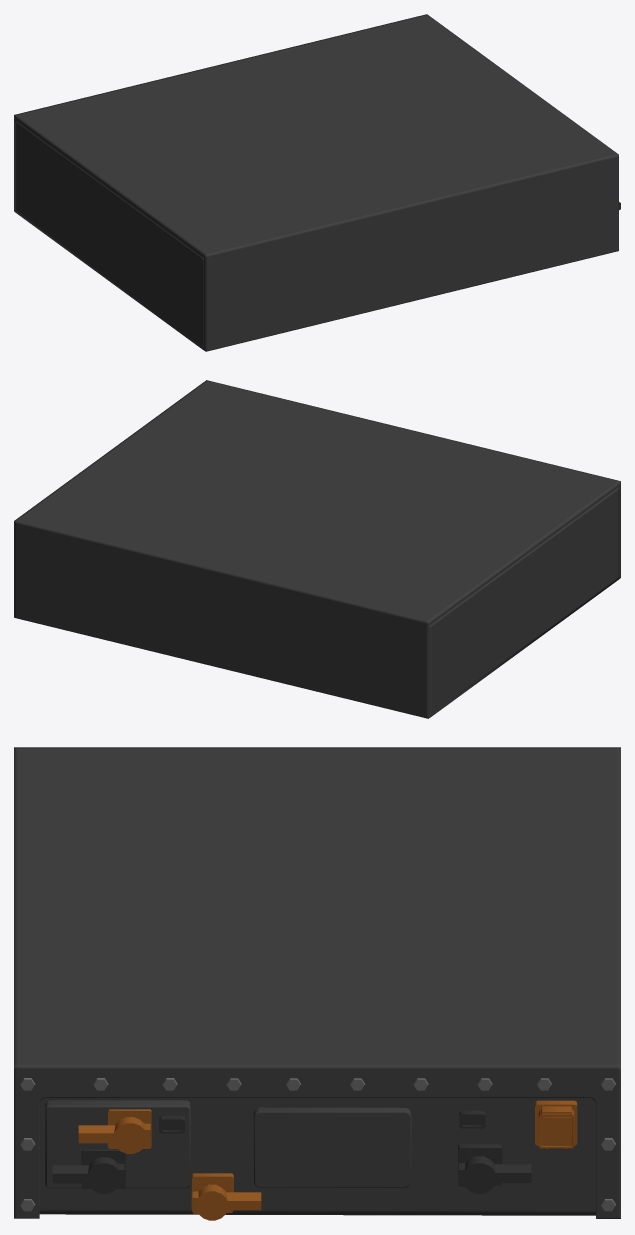
Rendered from packshell07.glb.
The picture shows the model from 3 angles, top to bottom: view 1: azimuth 30°, elevation 25°; view 2: azimuth 150°, elevation 25°; view 3: azimuth 270°, elevation 25°; orthographic projection. The views are drawn at different scales.
Visible parts, largest first — view 1: PS03_up012, PS03_CELL012; view 2: PS03_up012, PS03_CELL012; view 3: PS03_up012, PS03_CELL012.
Part boxes in pixels (x1,y1,x2,y2): PS03_up012: (14,14,618,351); PS03_CELL012: (15,120,620,350); PS03_up012: (14,380,620,718); PS03_CELL012: (429,487,619,717); PS03_up012: (14,747,620,1218); PS03_CELL012: (39,1098,595,1220).
Bounding box in the file's own units: 0.9488 × 0.2037 × 0.7346.
